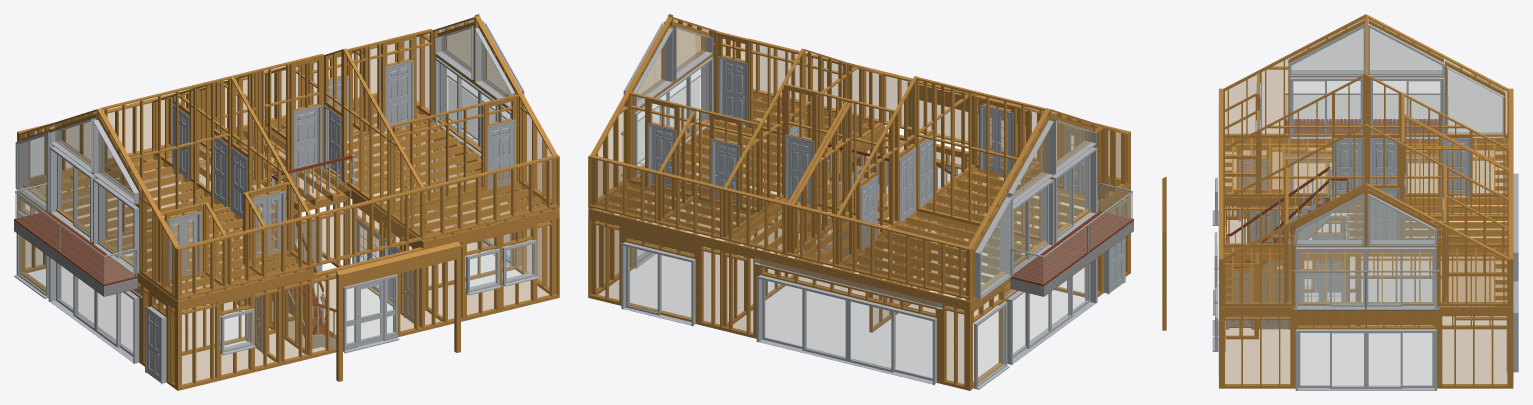
File: house-timber-frame-walls.glb
3 views of the same model, side by side, from view 1: azimuth 30°, elevation 25°; view 2: azimuth 150°, elevation 25°; view 3: azimuth 270°, elevation 25° (orthographic). The views are drawn at different scales.
Visible parts, largest first — view 1: Object_14, Object_15, Object_9, Object_8, Object_7, Object_13, Object_6, Object_12, Object_2, Object_4; view 2: Object_14, Object_15, Object_9, Object_8, Object_7, Object_6, Object_11, Object_2; view 3: Object_14, Object_15, Object_8, Object_9, Object_7, Object_2, Object_13, Object_12, Object_11.
Boxes of the visible parts, left/top/right/bottom form: Object_14: left=17, top=14, right=559, bottom=390; Object_15: left=19, top=17, right=559, bottom=389; Object_9: left=14, top=21, right=537, bottom=384; Object_8: left=15, top=29, right=533, bottom=353; Object_7: left=14, top=211, right=137, bottom=296; Object_13: left=253, top=154, right=355, bottom=348; Object_6: left=14, top=220, right=137, bottom=296; Object_12: left=256, top=155, right=353, bottom=338; Object_2: left=15, top=75, right=507, bottom=276; Object_4: left=295, top=219, right=322, bottom=283; Object_14: left=588, top=14, right=1130, bottom=390; Object_15: left=588, top=17, right=1128, bottom=389; Object_9: left=621, top=21, right=1125, bottom=389; Object_8: left=622, top=29, right=1132, bottom=383; Object_7: left=1010, top=211, right=1133, bottom=296; Object_6: left=1010, top=220, right=1133, bottom=296; Object_11: left=754, top=258, right=1016, bottom=309; Object_2: left=621, top=75, right=1132, bottom=276; Object_14: left=1162, top=14, right=1513, bottom=388; Object_15: left=1218, top=18, right=1513, bottom=386; Object_8: left=1285, top=28, right=1502, bottom=386; Object_9: left=1212, top=24, right=1518, bottom=390; Object_7: left=1285, top=119, right=1438, bottom=133; Object_2: left=1285, top=93, right=1444, bottom=313; Object_13: left=1225, top=165, right=1349, bottom=268; Object_12: left=1226, top=167, right=1348, bottom=267; Object_11: left=1285, top=153, right=1437, bottom=158.
Bounding box in the file's own units: 47.73 × 24.41 × 37.52.
Materials: 12 (7 with a texture image).
